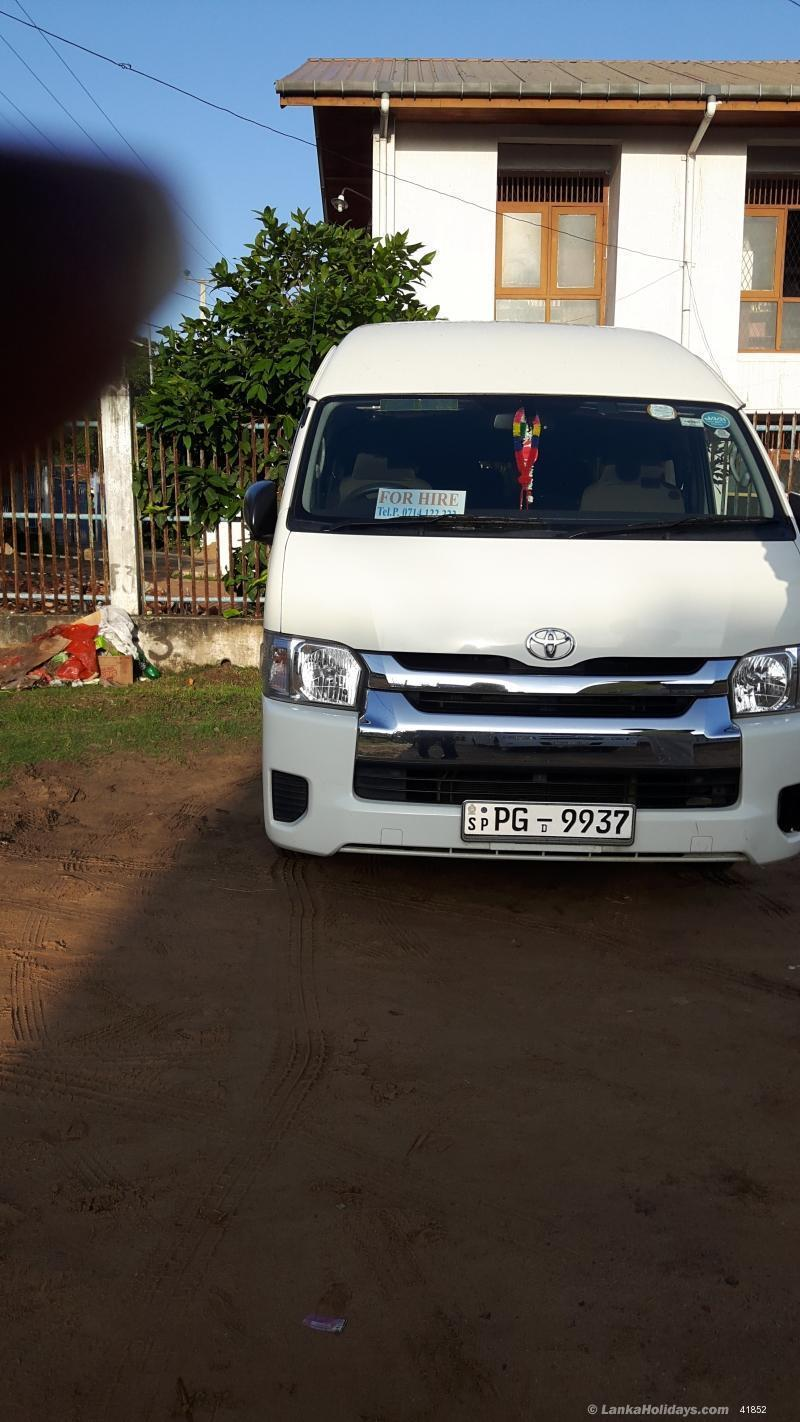license-plate: (465, 800, 635, 851)
